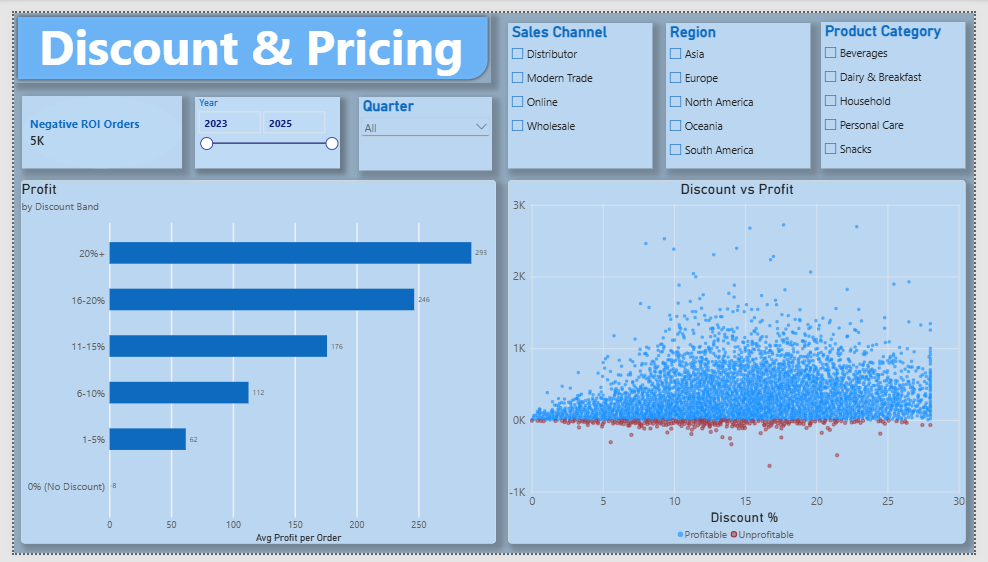

The page's visual inventory and layout, read from the dashboard file:
{"tool":"powerbi","page":{"name":"Discount & Pricing","canvas":[1920,1080],"ordinal":2},"visuals":[{"type":"slicer","fields":{"Values":["fmcg_orders.Year"]},"box":[362.5,167.5,290,142.5],"z":0},{"type":"slicer","fields":{"Values":["fmcg_orders.Quarter"]},"box":[689.5,167.2,266.3,146.6],"z":1000},{"type":"slicer","fields":{"Values":["fmcg_orders.Region"]},"box":[1304.8,20.6,289,291.1],"z":2000},{"type":"slicer","fields":{"Values":["fmcg_orders.Product_Category"]},"box":[1614.5,18.6,289,293.2],"z":3000},{"type":"slicer","fields":{"Values":["fmcg_orders.Sales_Channel"]},"box":[988.9,20.6,289,291.1],"z":4000},{"type":"shape","box":[0,0,955,140],"z":5000},{"type":"textbox","box":[49.5,0,914.6,140.4],"z":6000},{"type":"clusteredBarChart","title":"Profit","fields":{"Category":["fmcg_orders.Discount_Band"],"Y":["_Measures.Avg Profit per Order"]},"box":[14.5,334.5,949.7,726.7],"z":7000},{"type":"scatterChart","title":"Discount vs Profit","fields":{"Series":["fmcg_orders.Profit_Status"],"X":["fmcg_orders.Discount_Pct"],"Y":["fmcg_orders.Profit_USD"]},"box":[988.9,334.5,914.6,726.7],"z":8000},{"type":"cardVisual","fields":{"Data":["_Measures.Negative ROI Orders"]},"box":[15,165,320,145],"z":9000}]}

Visuals, with their boxes in screenshot pixels (x1, y1, x2, y2), scaled from the page's 1920x1080 canvas onto the 988x562 screenshot:
slicer - fmcg_orders.Year: [187,87,336,161]
slicer - fmcg_orders.Quarter: [355,87,492,163]
slicer - fmcg_orders.Region: [671,11,820,162]
slicer - fmcg_orders.Product_Category: [831,10,980,162]
slicer - fmcg_orders.Sales_Channel: [509,11,658,162]
shape: [0,0,491,73]
textbox: [25,0,496,73]
"Profit" clusteredBarChart: [7,174,496,552]
"Discount vs Profit" scatterChart: [509,174,980,552]
cardVisual - _Measures.Negative ROI Orders: [8,86,172,161]
